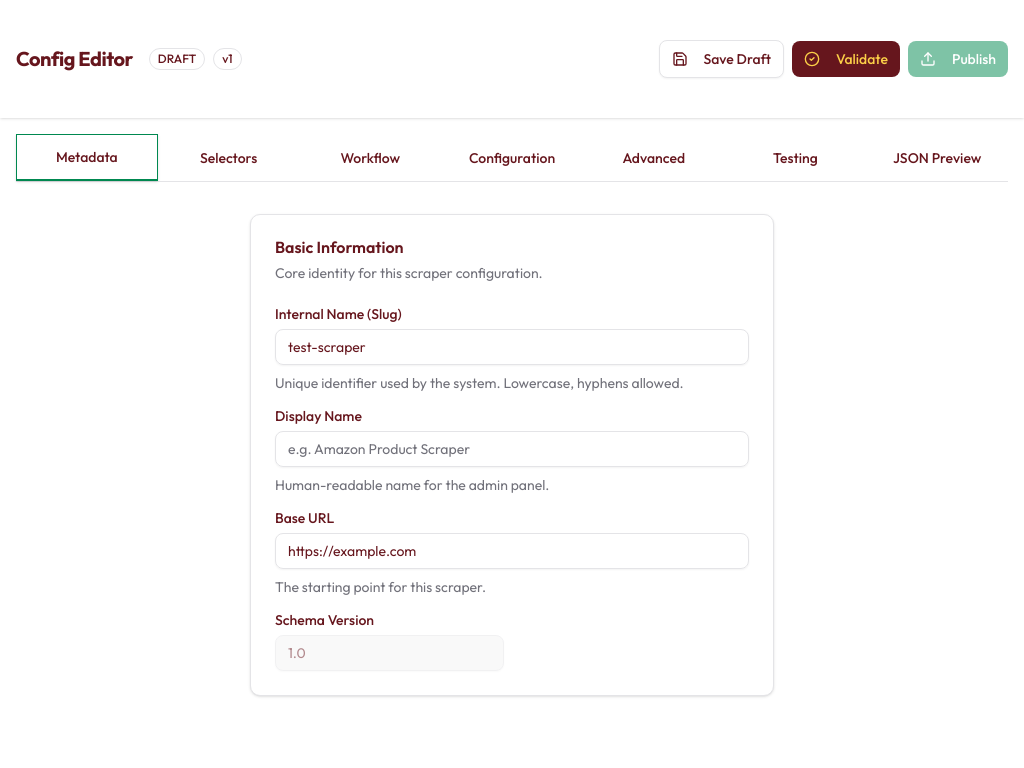
Scenario: ConfigEditorClient › allows switching tabs
The image size is (1024, 768).
Expected: the field labelled "Internal Name (Slug)" is shown, [275, 329, 749, 365]
// Switch to Selectors
Step 1. Click the tab "Selectors" → [229, 158], box [158, 134, 299, 181]
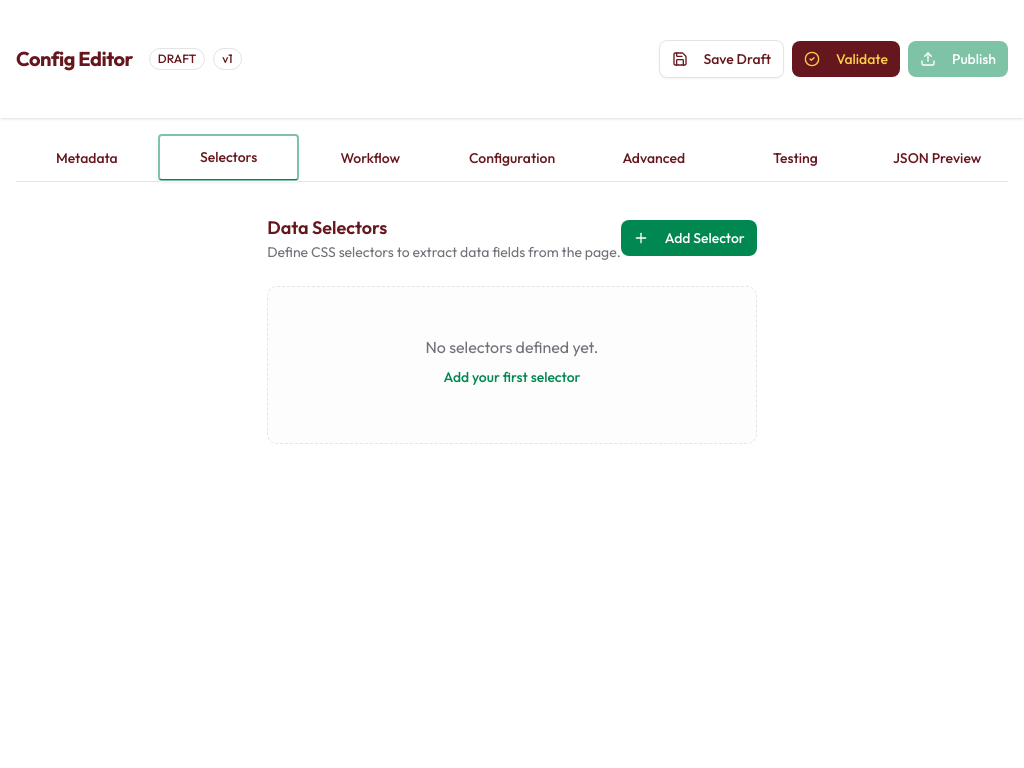
Expected: the heading "Data Selectors" is shown, [267, 216, 387, 239]
